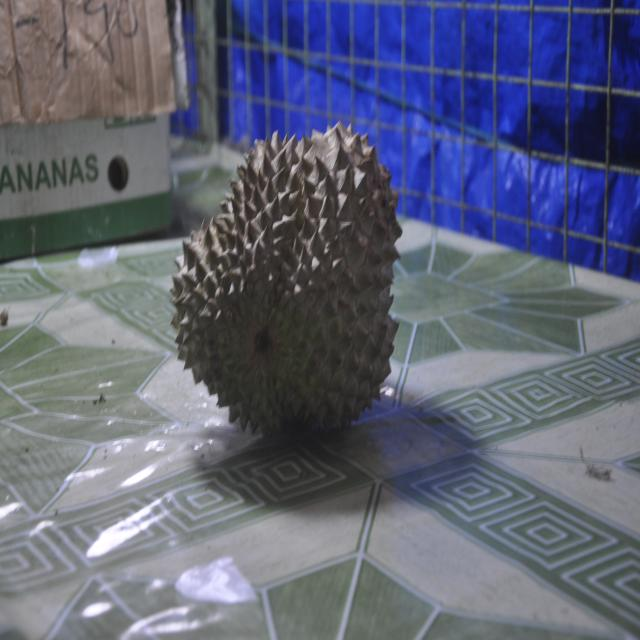mature: (171, 122, 402, 470)
